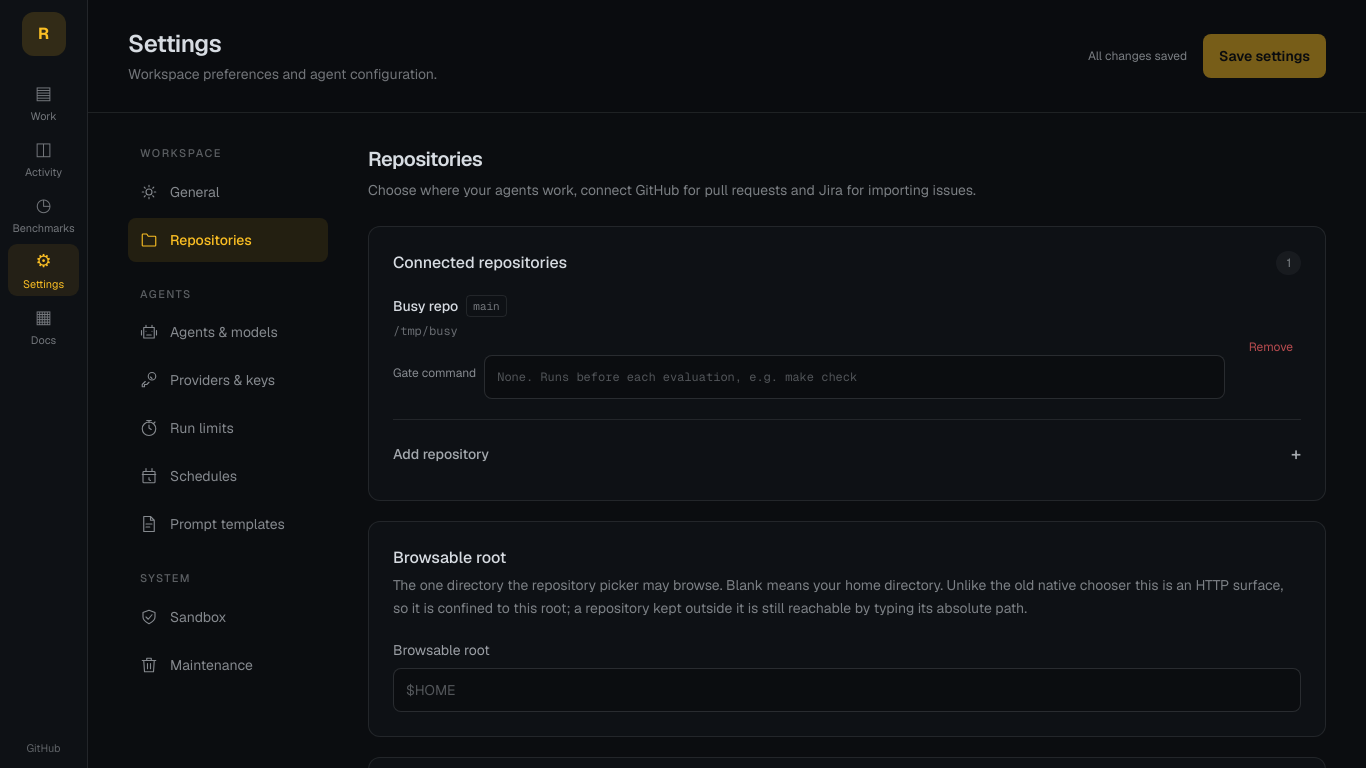
Test: SettingsPage › shows a repository removal conflict on that repository's row
The image size is (1366, 768).
expect the text "Busy repo" is shown: met, box [393,296,458,316]
What coordinates should you click on to do the following:
click the button "Remove"
I would click on:
 (1271, 347)
Its box is [1241,325,1301,369].
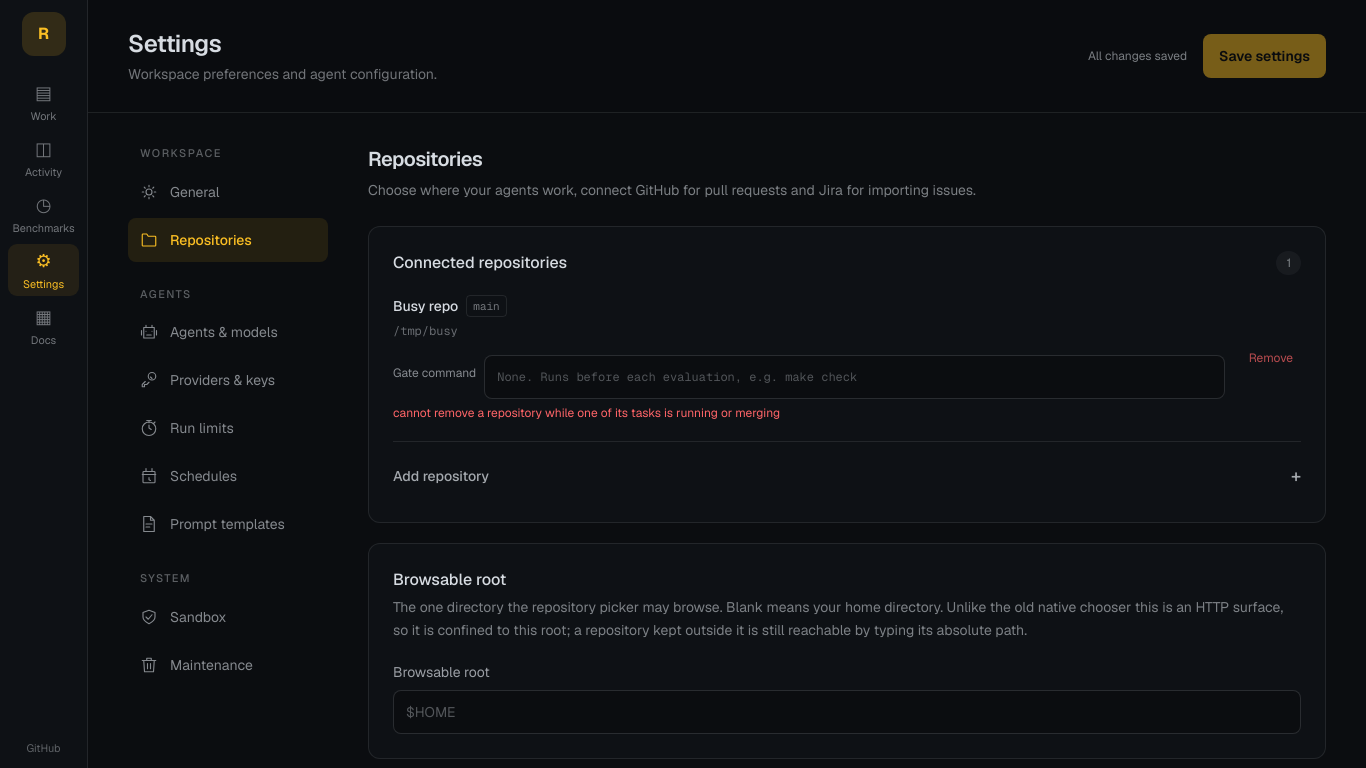
expect the text "Busy repo" is shown: met, box [393,296,458,316]
expect the message "cannot remove a repository while one of its tasks is running or merging" is shown: met, box [393,405,780,421]
